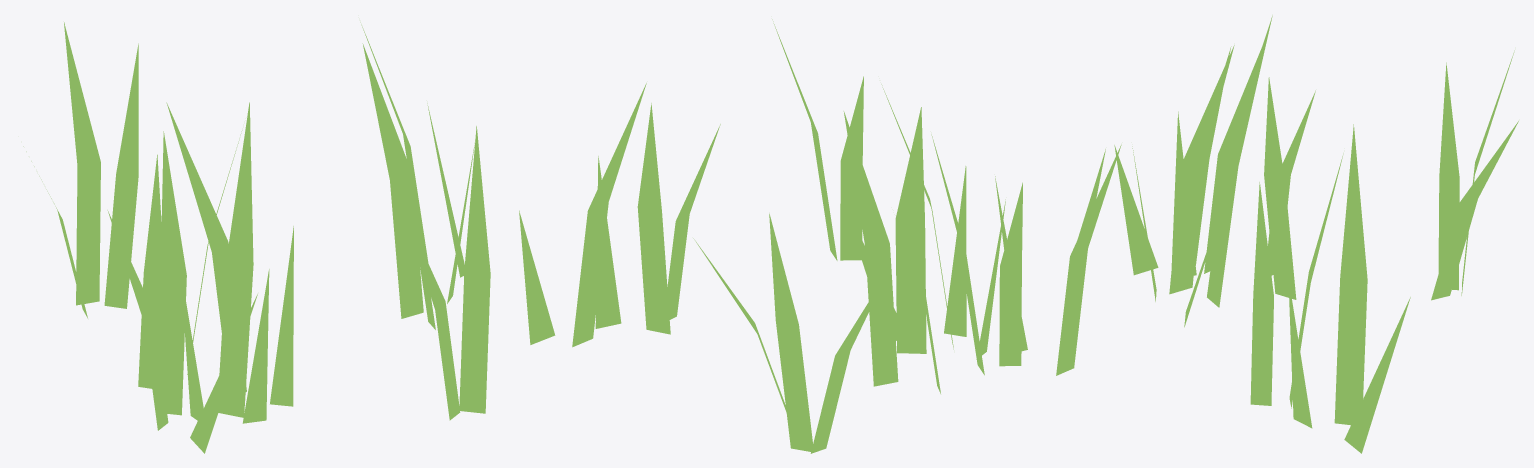
File: Grass_b_OneS_07.fbx
3 views of the same model, side by side, from view 1: azimuth 30°, elevation 25°; view 2: azimuth 150°, elevation 25°; view 3: azimuth 270°, elevation 25° (orthographic). The views are drawn at different scales.
Parts seen in each view (by area): view 1: Grass_b_OneS_07; view 2: Grass_b_OneS_07; view 3: Grass_b_OneS_07.
Boxes of the visible parts, box(x1,y1,x2,y2) form: Grass_b_OneS_07: box(23, 22, 490, 453); Grass_b_OneS_07: box(519, 19, 1027, 453); Grass_b_OneS_07: box(1056, 15, 1518, 453).
Size of the model in its own units: 0.7363 by 0.4799 by 0.7247.
